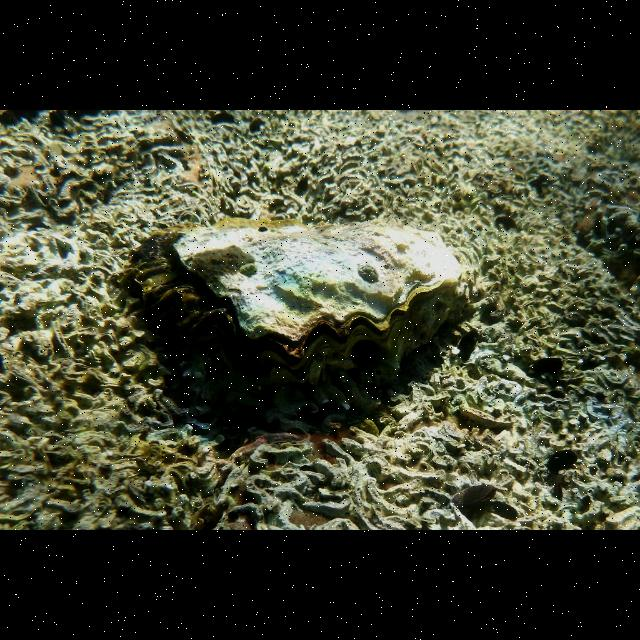Oyster-Open: (132, 215, 460, 382)
